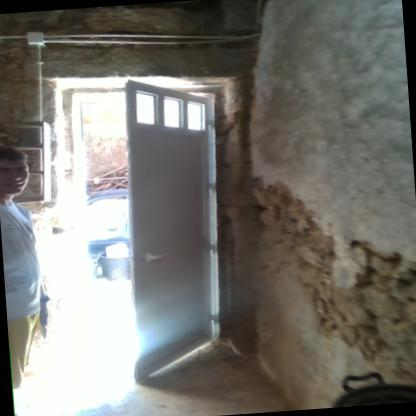semi: (24, 56, 259, 406)
